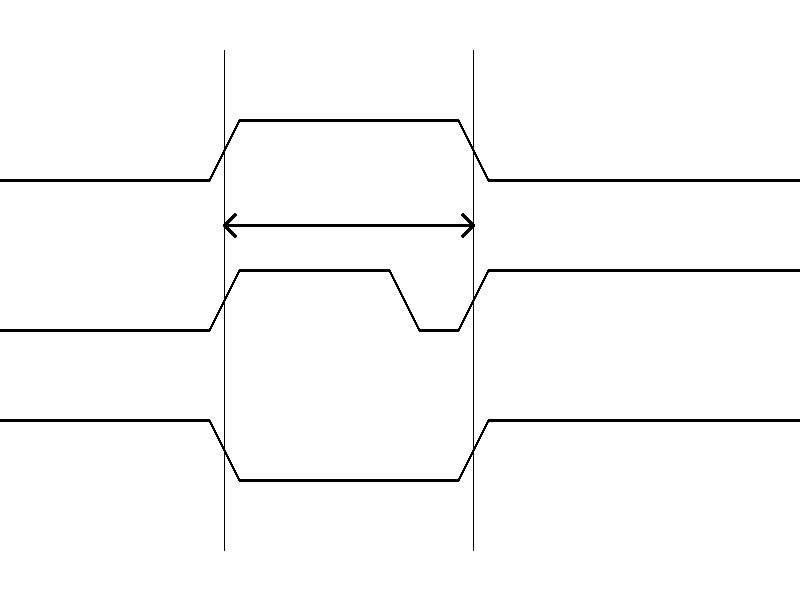double_arrow: (224, 210, 473, 240)
